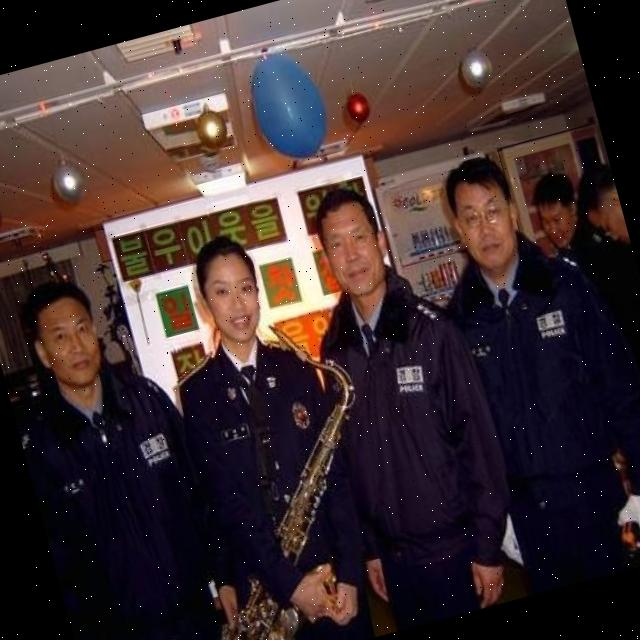saxophone: (141, 303, 420, 640)
